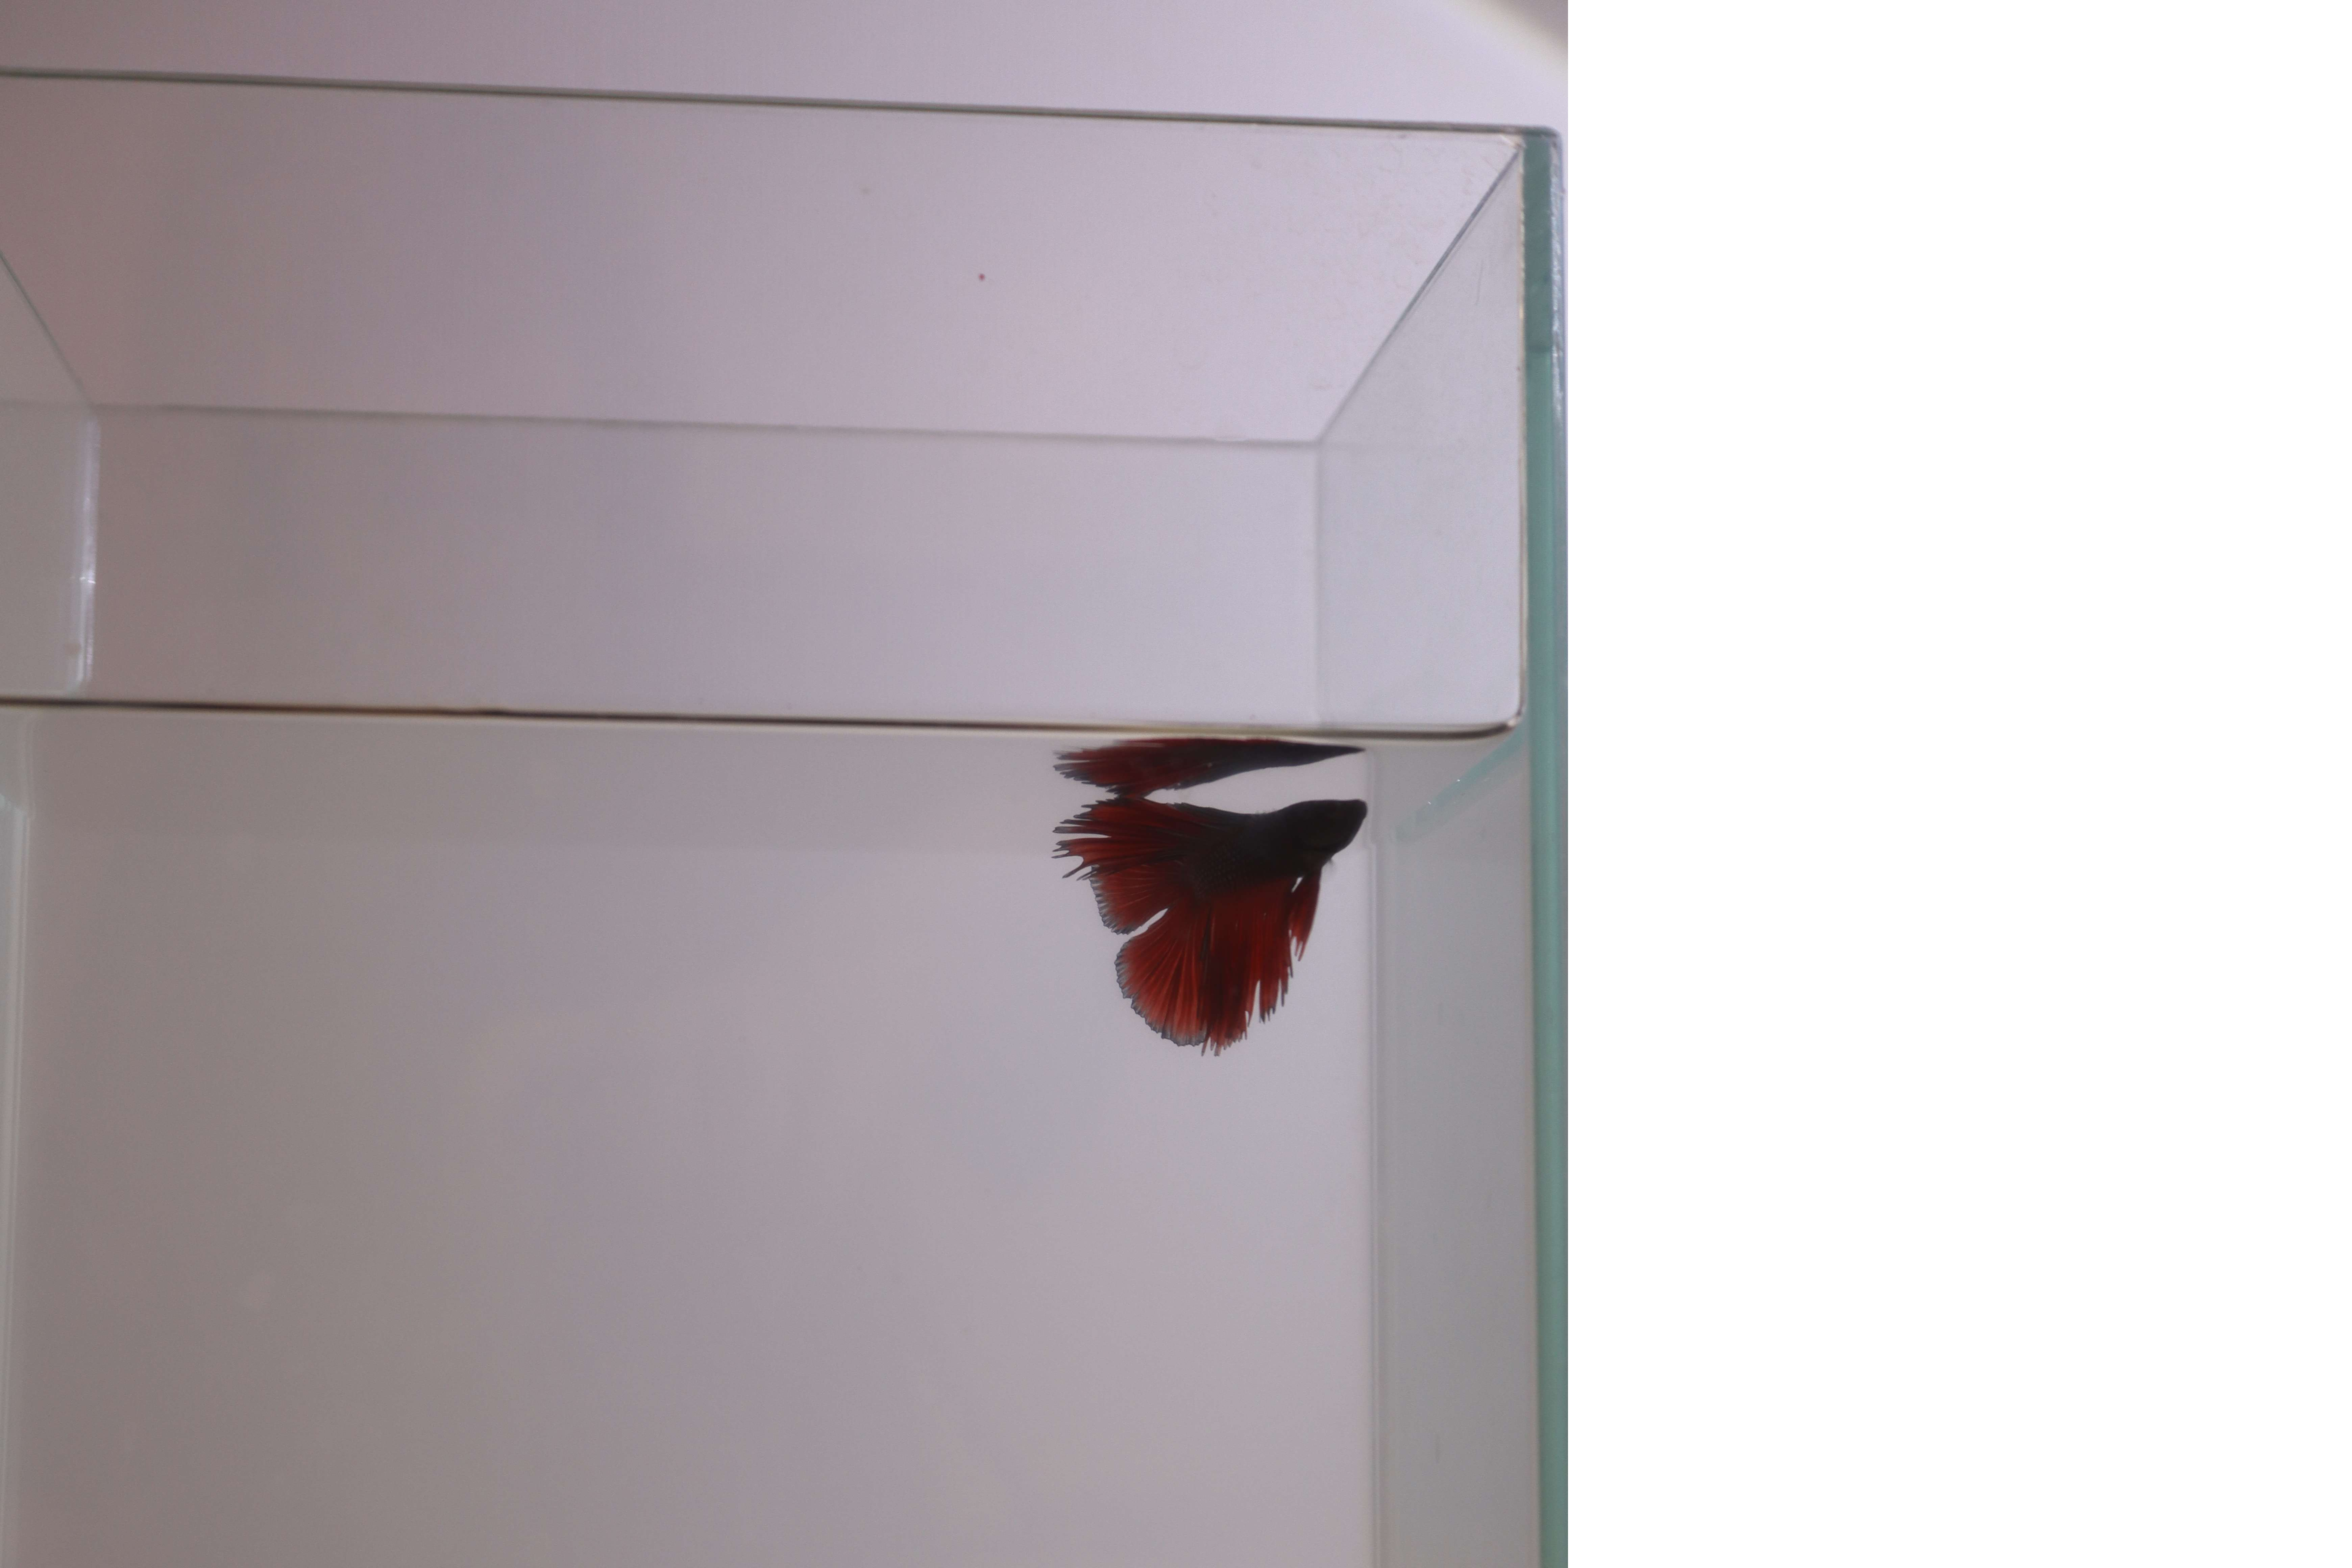fish: (1045, 789, 1383, 1057)
